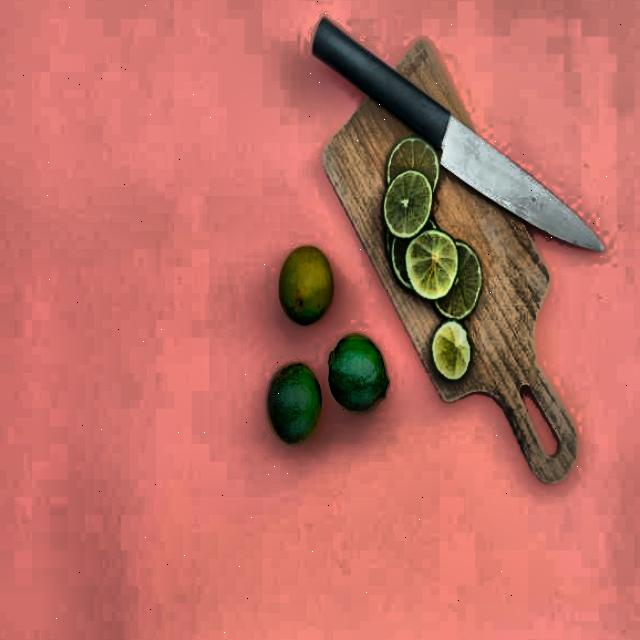knife: (312, 8, 611, 259)
